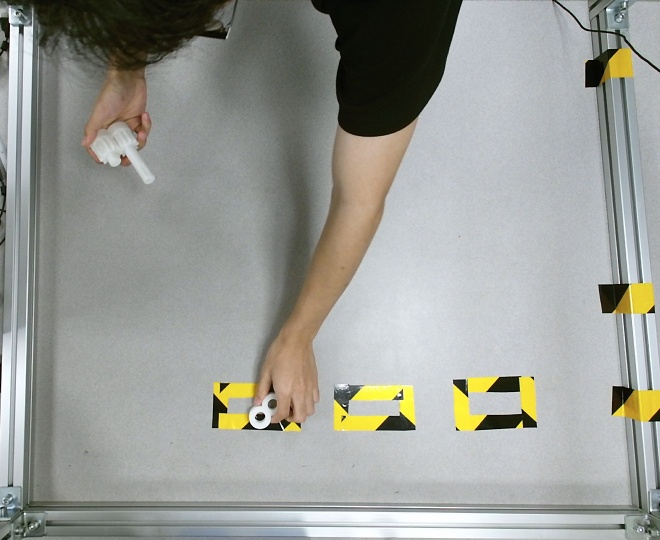stage_3: (90, 119, 154, 185)
